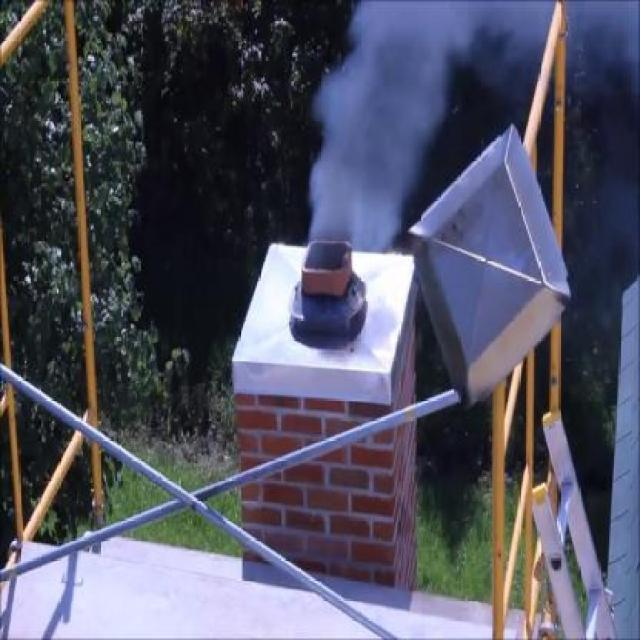smoke: (332, 26, 432, 200)
